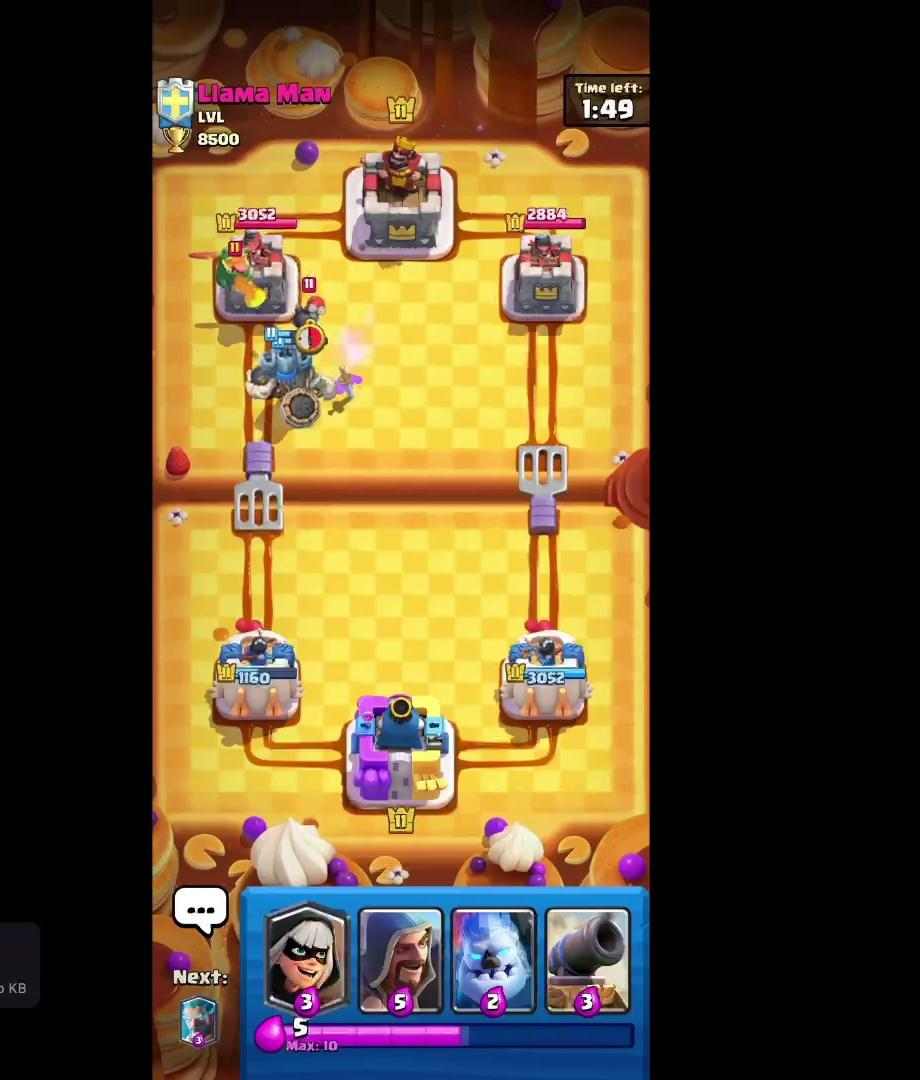Baby Dragon: (182, 224, 271, 301)
Bomber: (285, 264, 349, 339)
